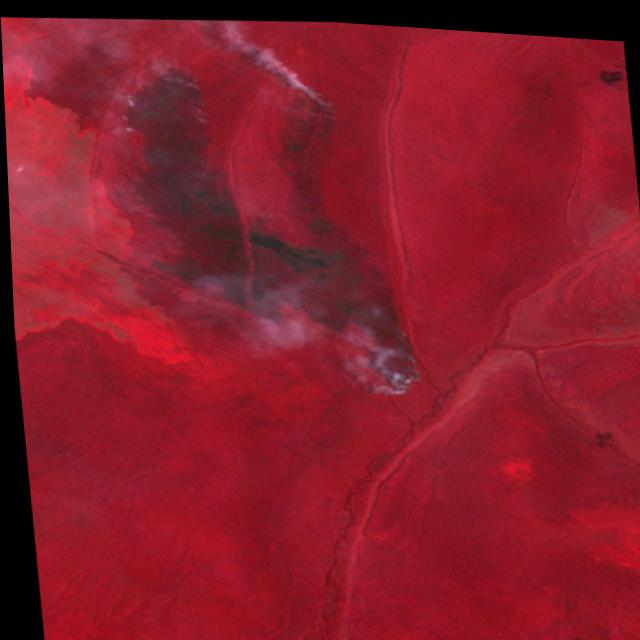fire: (106, 41, 430, 408)
